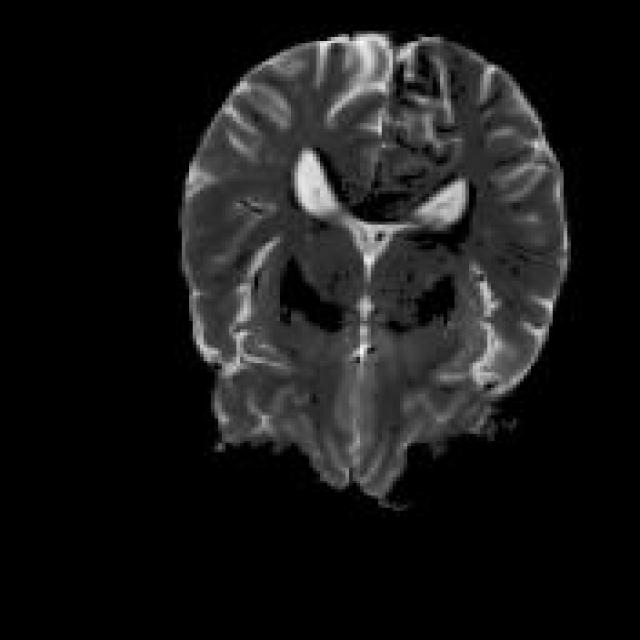parkinson: (174, 28, 571, 508)
